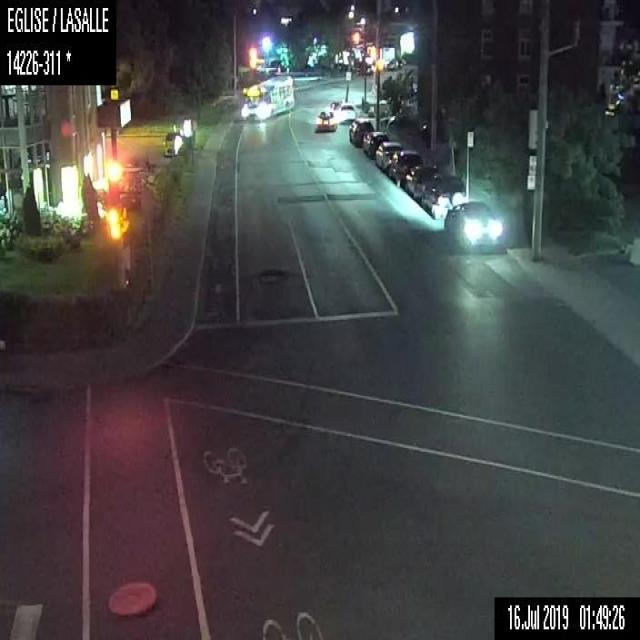bus: (240, 72, 295, 119)
vehicle: (443, 201, 502, 252), (418, 172, 466, 217), (388, 149, 422, 189), (403, 162, 435, 199), (348, 115, 373, 149), (374, 140, 401, 170), (363, 130, 388, 160), (161, 123, 183, 154), (314, 105, 336, 131), (337, 104, 356, 122)
